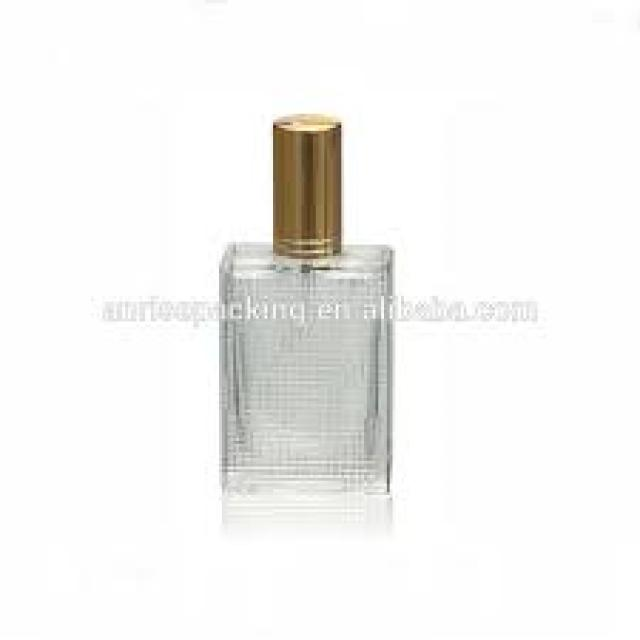glass: (219, 242, 393, 495)
metal: (273, 114, 339, 256)
